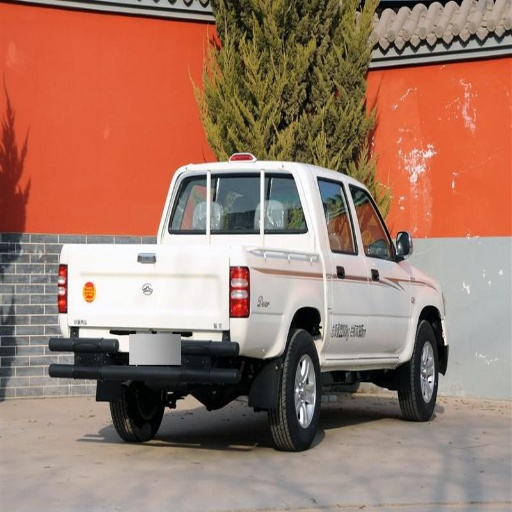back_bumper: (193, 318, 250, 373), (121, 337, 182, 372)
back_right_door: (296, 173, 368, 358)
trunk: (90, 234, 325, 357)
